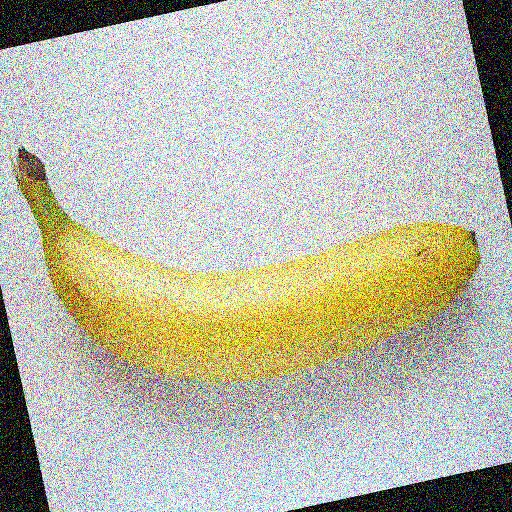fruit: (0, 110, 56, 267)
